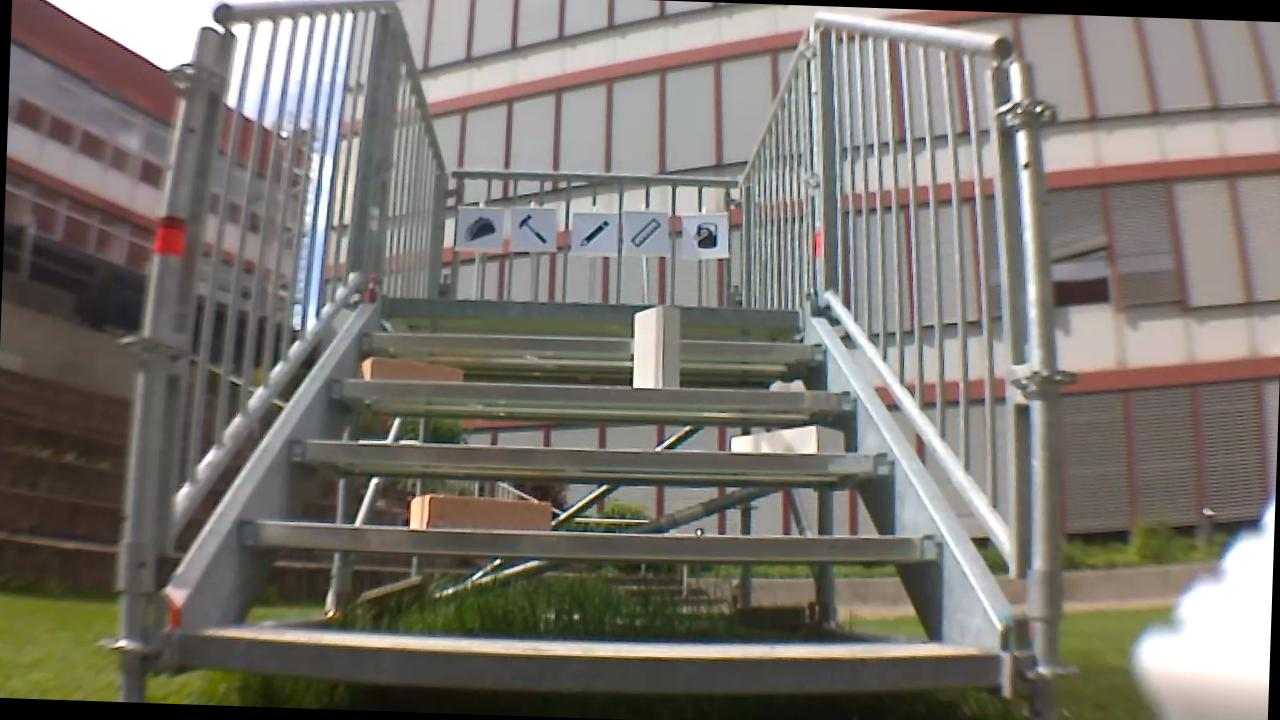brick: (411, 493, 551, 531), (631, 305, 678, 390), (728, 424, 842, 454), (361, 356, 462, 384)
bucket: (689, 217, 724, 253)
edge: (181, 625, 1002, 705), (242, 513, 939, 569), (291, 432, 894, 480), (330, 373, 860, 413), (363, 327, 829, 362), (384, 295, 806, 328)
hammer: (512, 211, 550, 250)
pencil: (575, 214, 613, 253)
ruler: (624, 216, 666, 250)
steps: (167, 282, 1021, 713)
taco: (461, 210, 497, 248)
